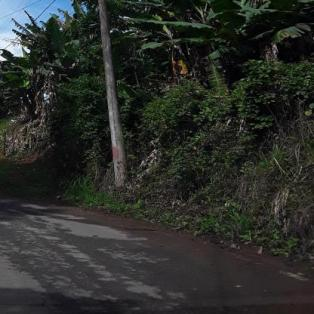Poste: (83, 0, 137, 183)
